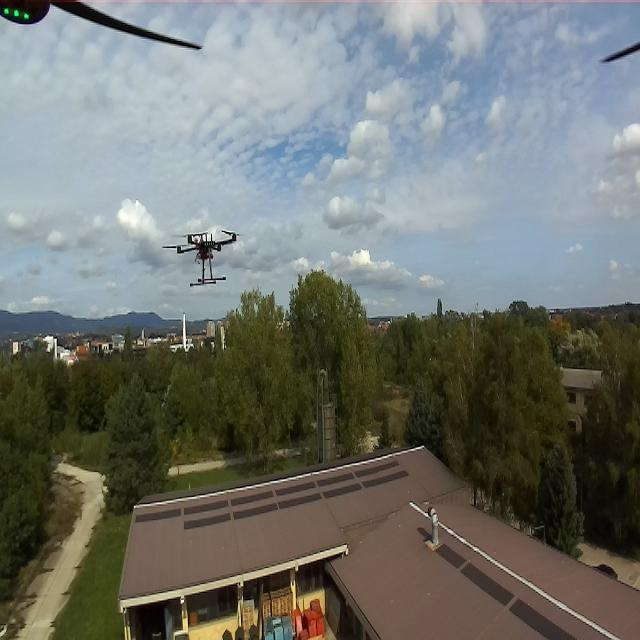UAV: (164, 220, 246, 291)
